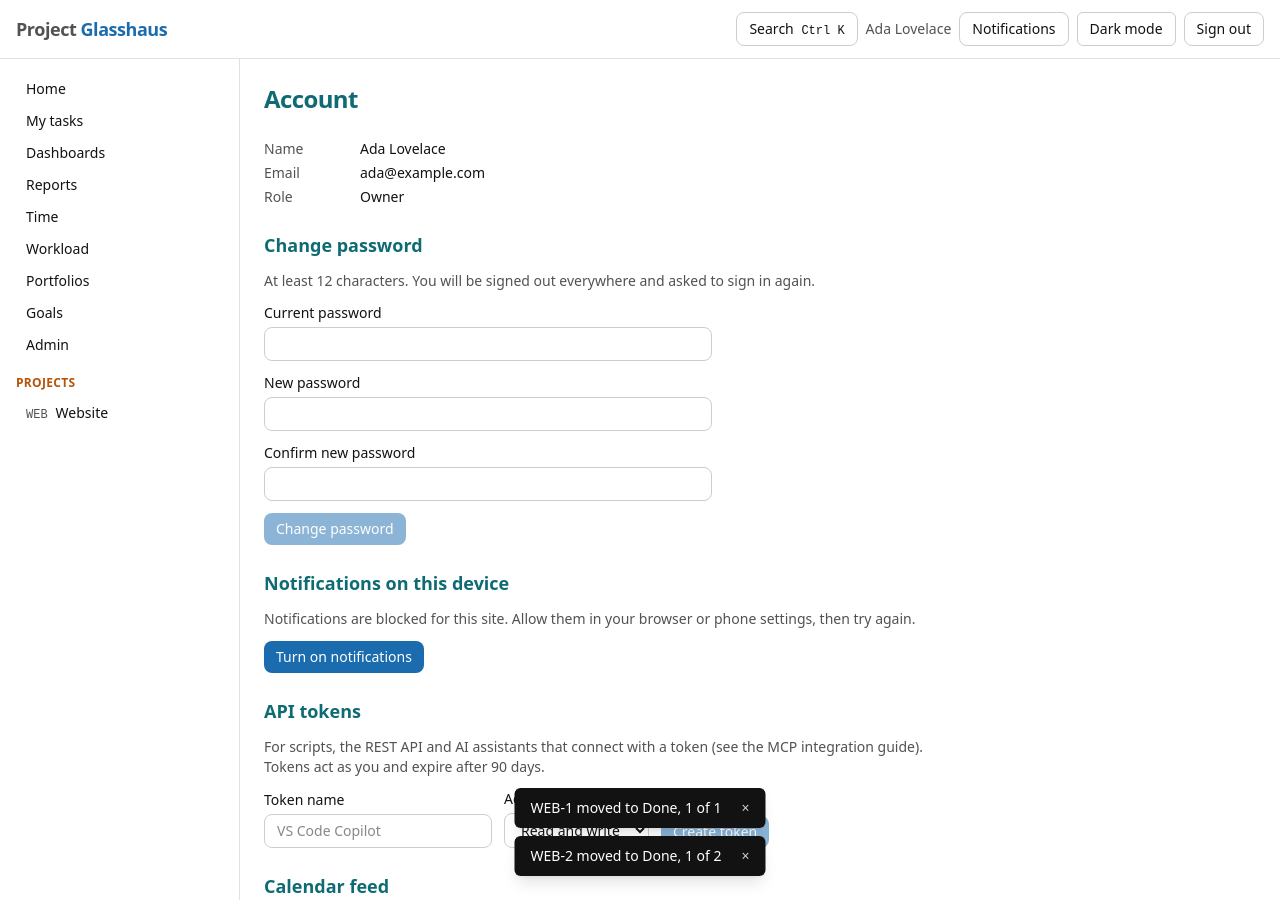
Test case: controls › marks the field the server rejected
The image size is (1280, 900).
In the field labelled "Token name": [378, 831] box [264,814,492,848], type "x"
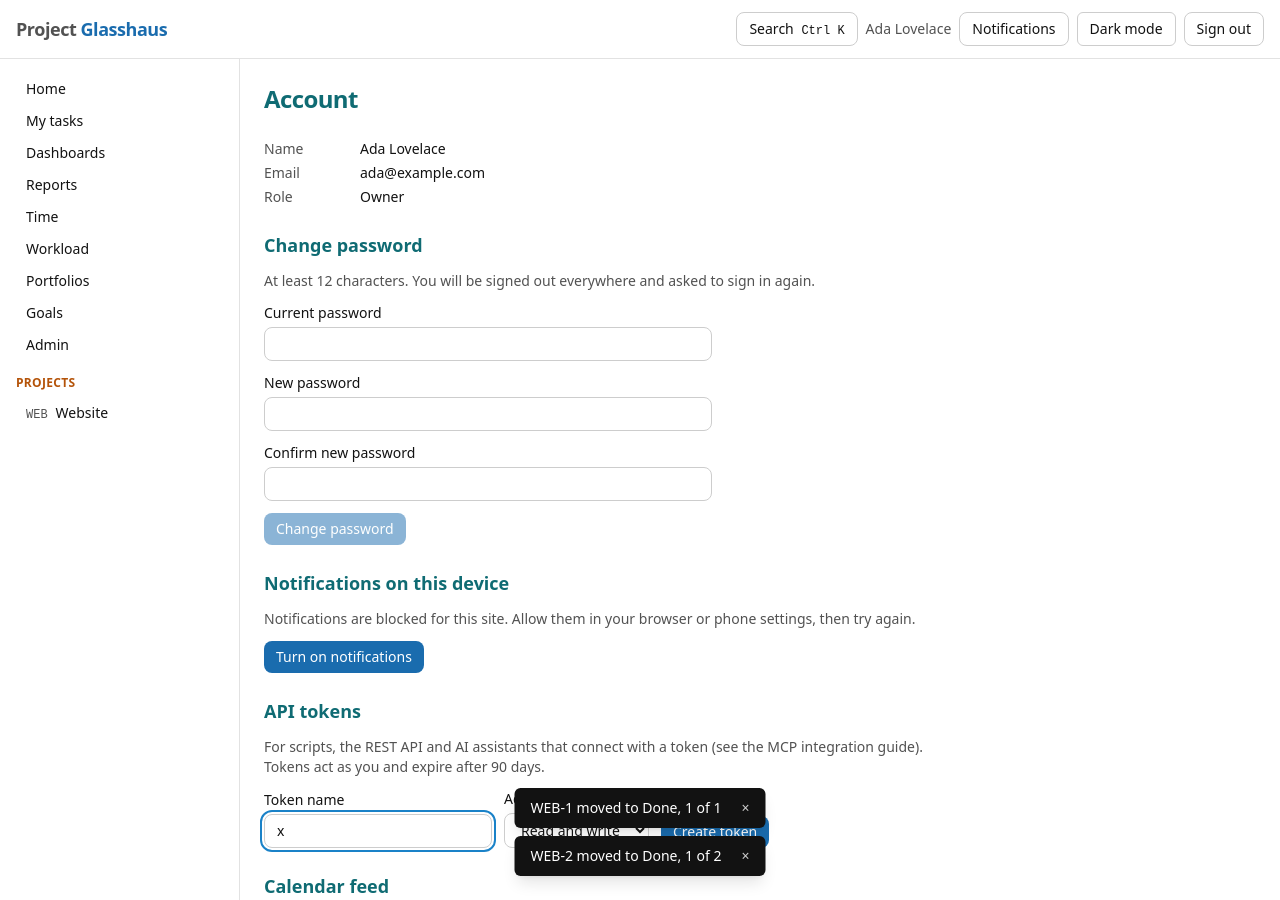
Click the button "Create token": [715, 832] box [661,816,769,848]
(page scrolled)
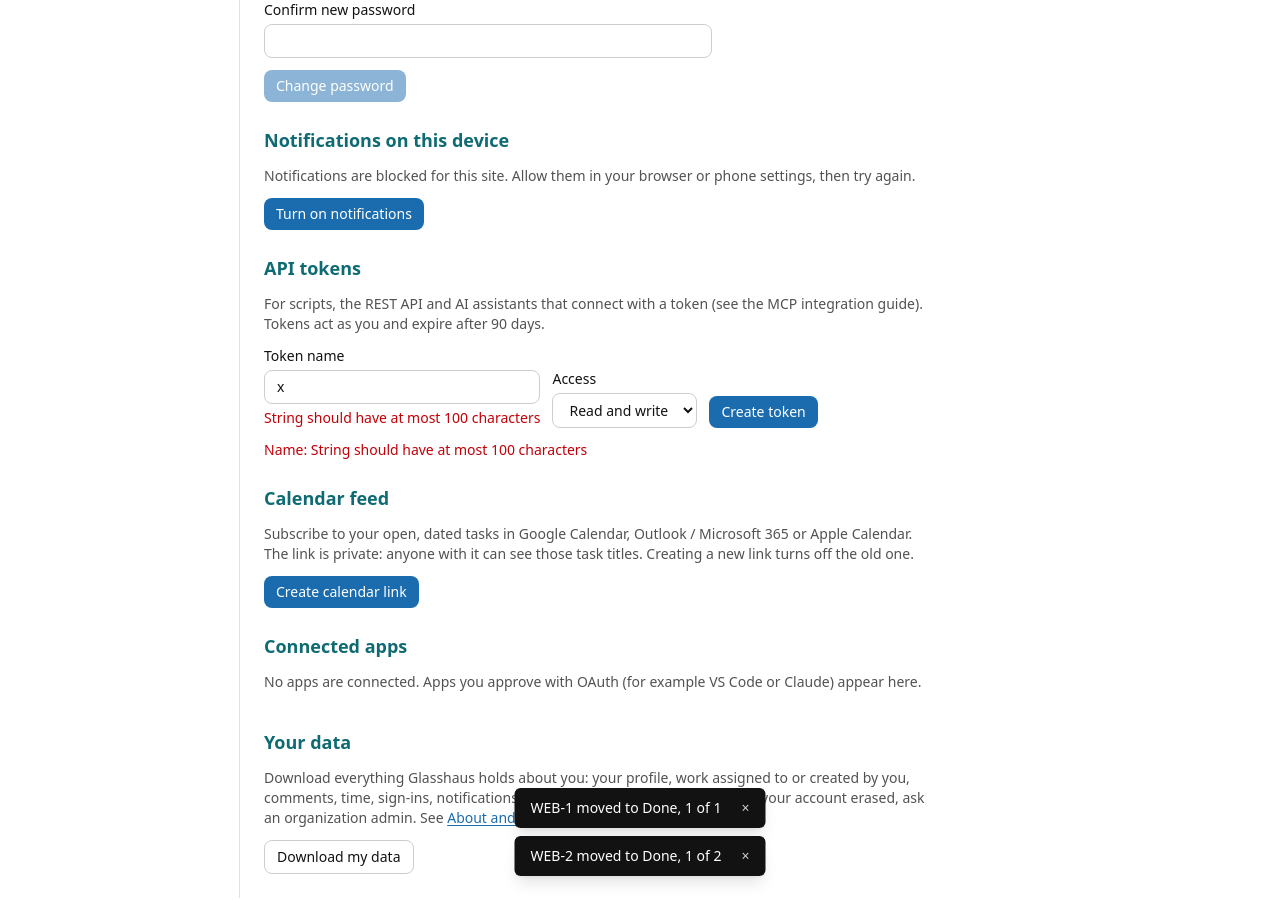
Expected: the message reads "Name: String should have at most 100 characters", [264,440,587,459]
